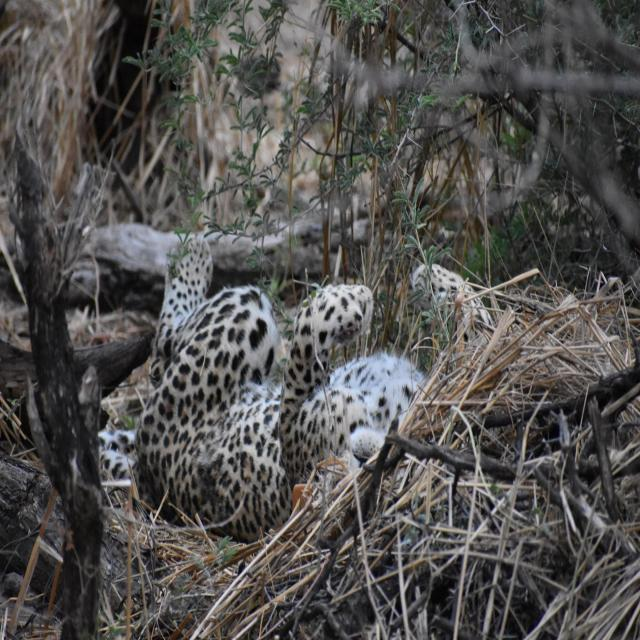Leopard: (100, 227, 428, 548)
